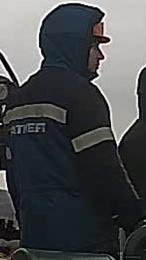helmet: (87, 14, 112, 46)
vest: (0, 69, 118, 256)
